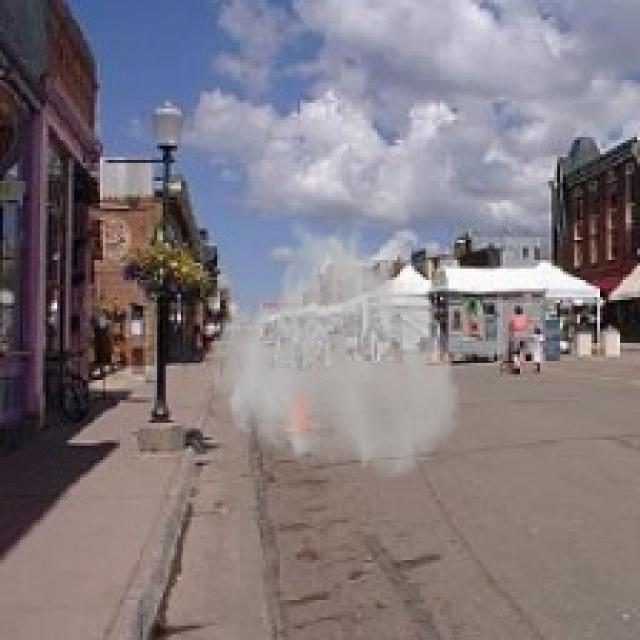smoke: (208, 214, 463, 483)
